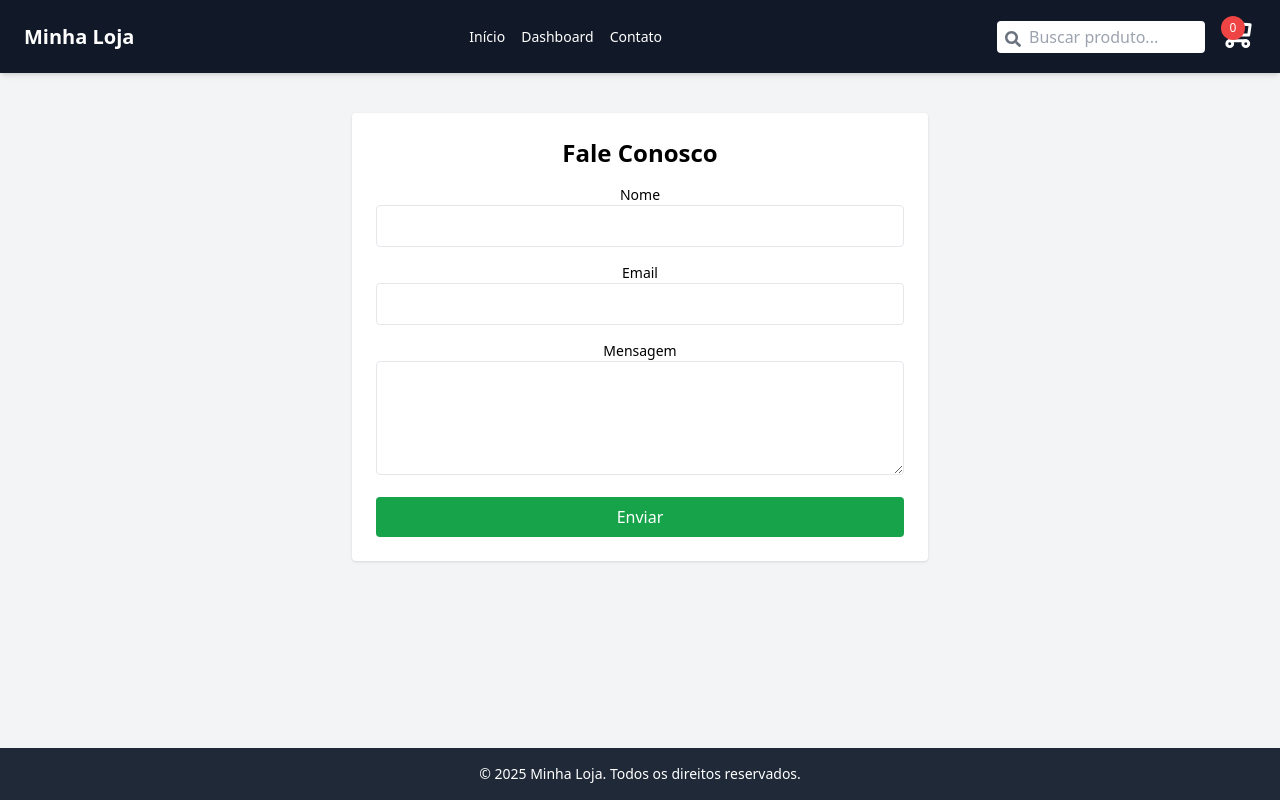
it: Formulário de Contato › deve preencher e enviar o formulário com sucesso
In the field named "nome": (640, 226) [376,205,904,247], type "Maria da Silva"
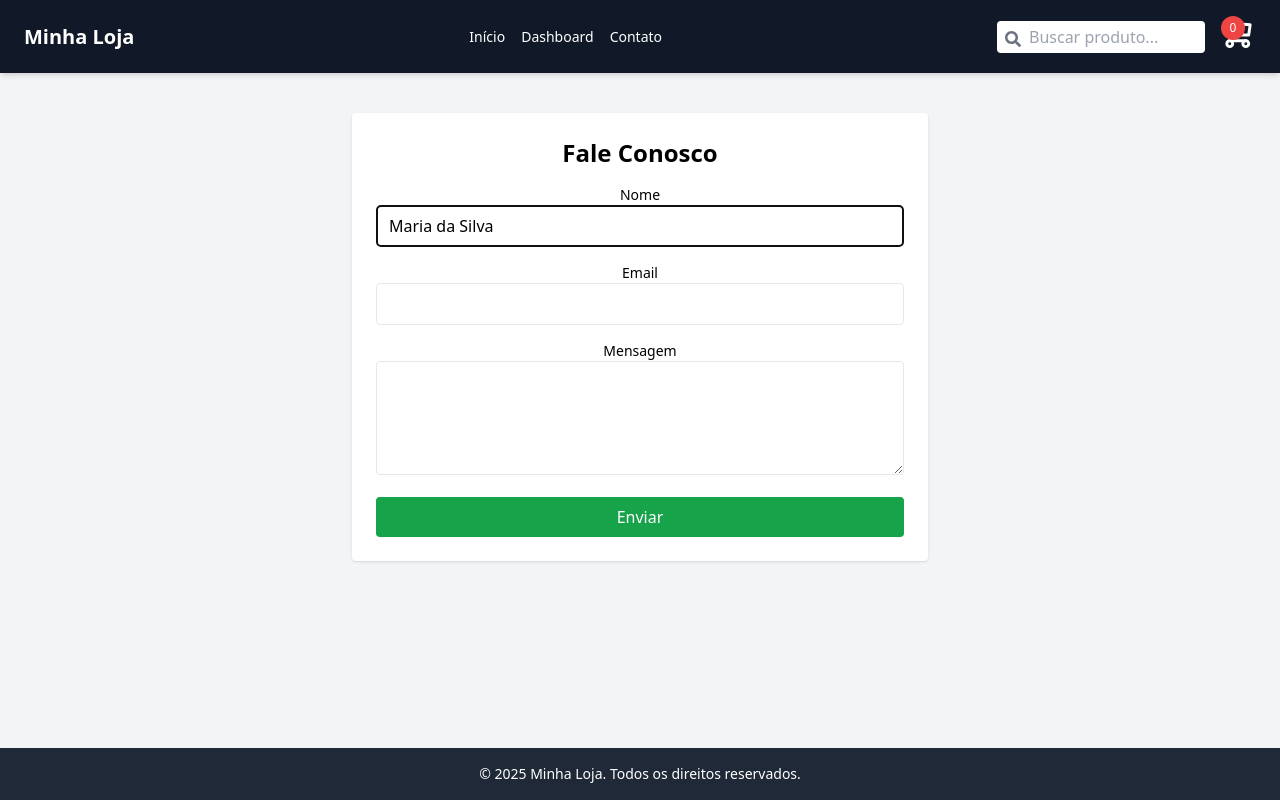
In the field named "email": (640, 304) [376,283,904,325], type "maria@example.com"
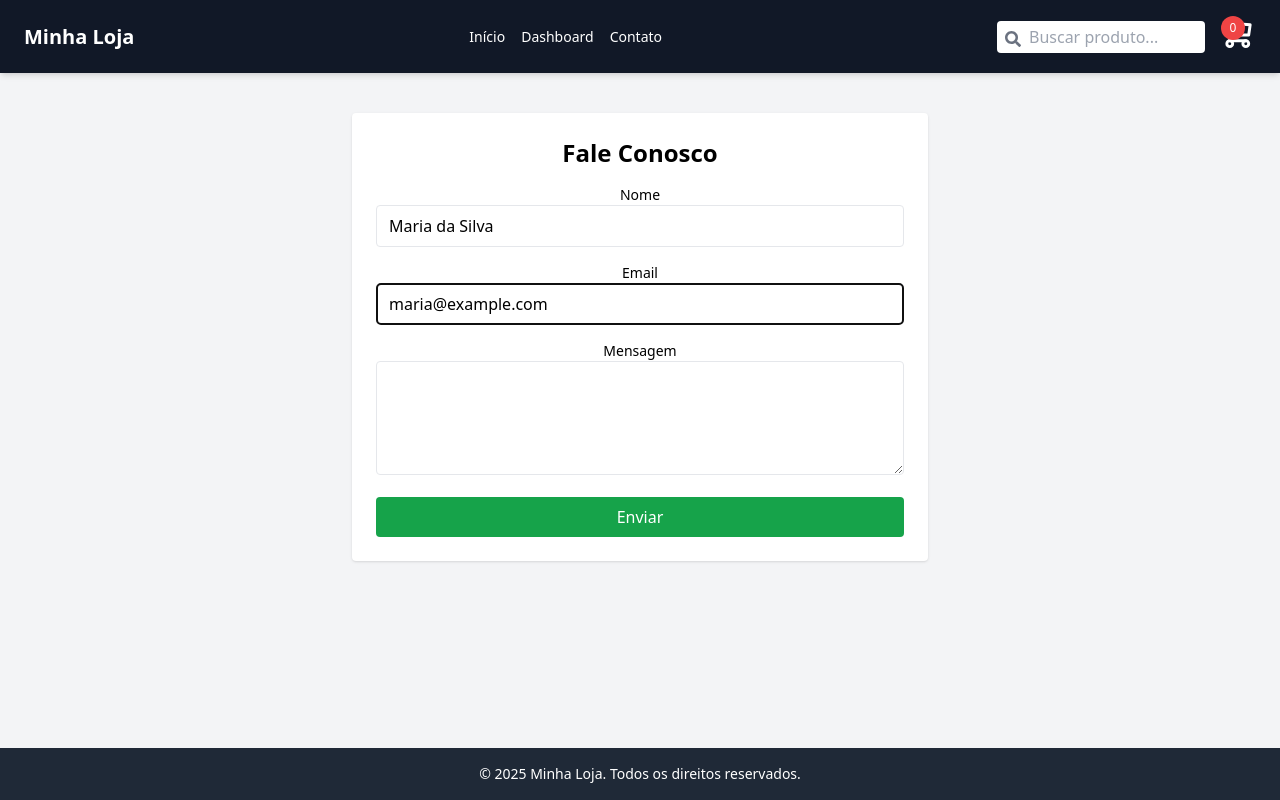
In the text box named "mensagem": (640, 418) [376,361,904,475], type "Olá, preciso de mais informações."
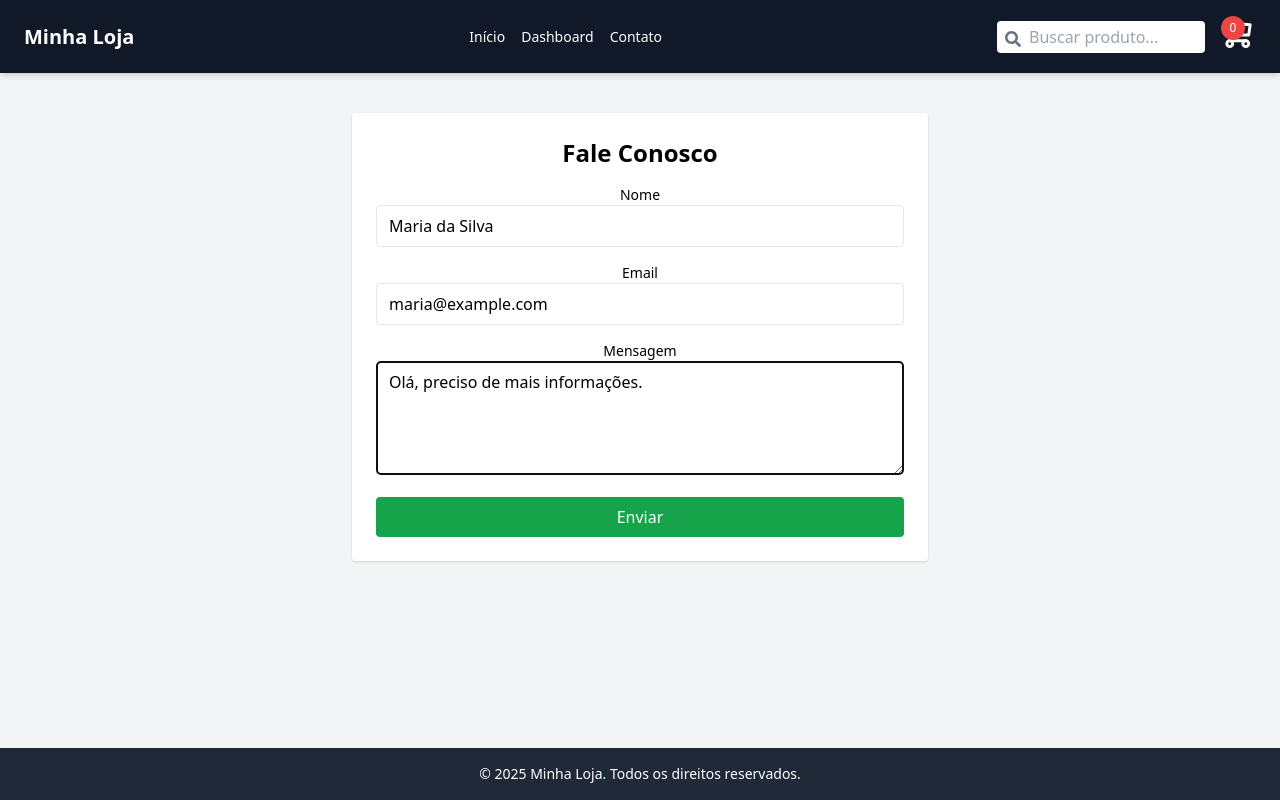
Click the submit button: (640, 517) [376,497,904,537]
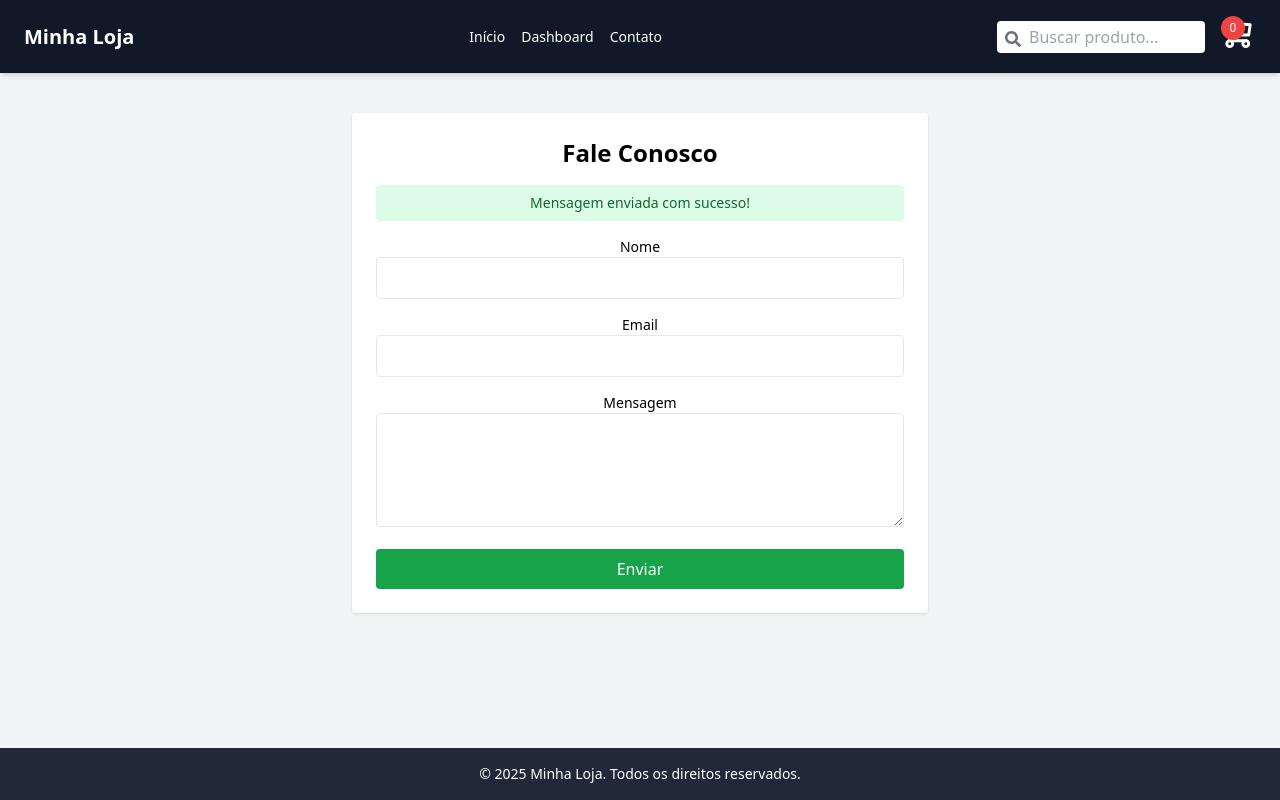
Expected: the text "Mensagem enviada com sucesso!" is shown, [376,185,904,221]
